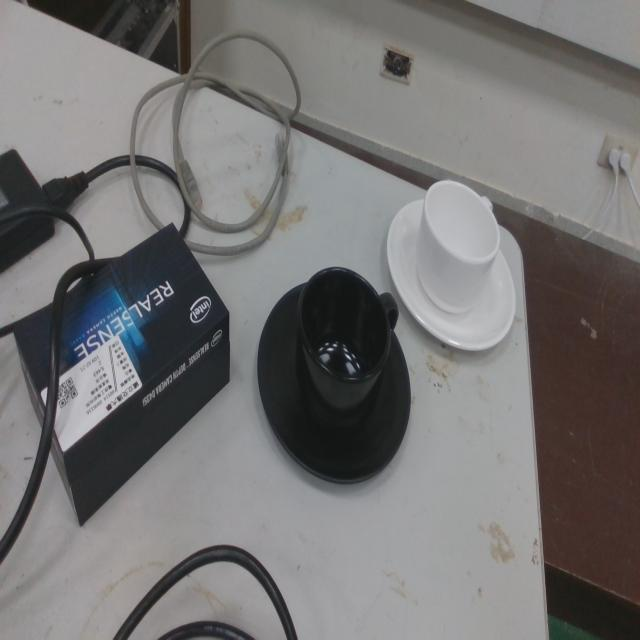black: (254, 264, 414, 494)
white: (384, 176, 519, 357)
